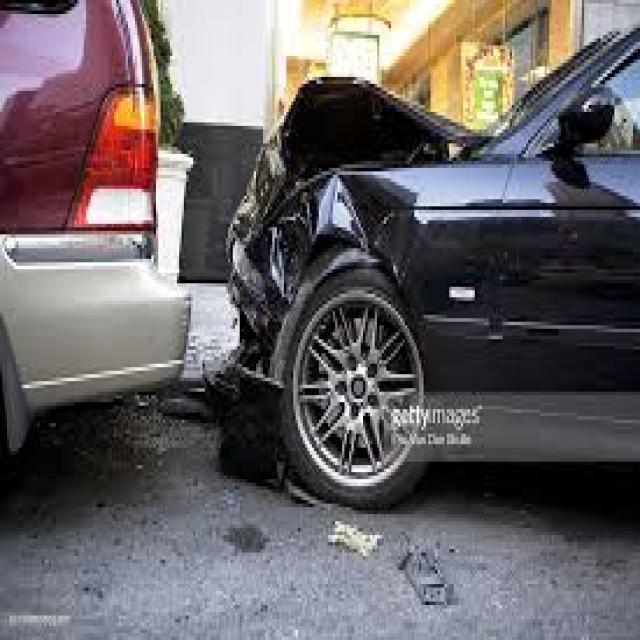severe: (209, 76, 436, 464)
